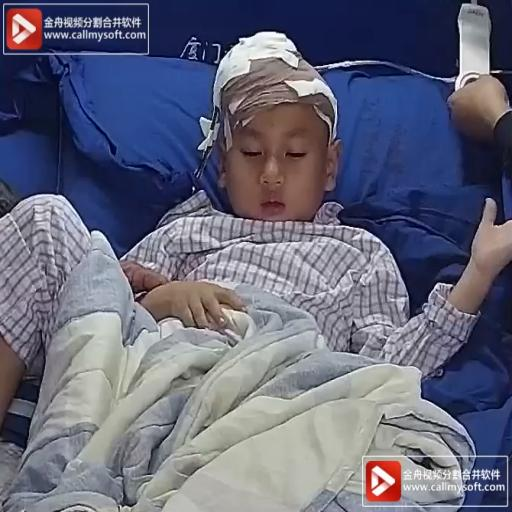Seizure: (197, 42, 371, 234)
